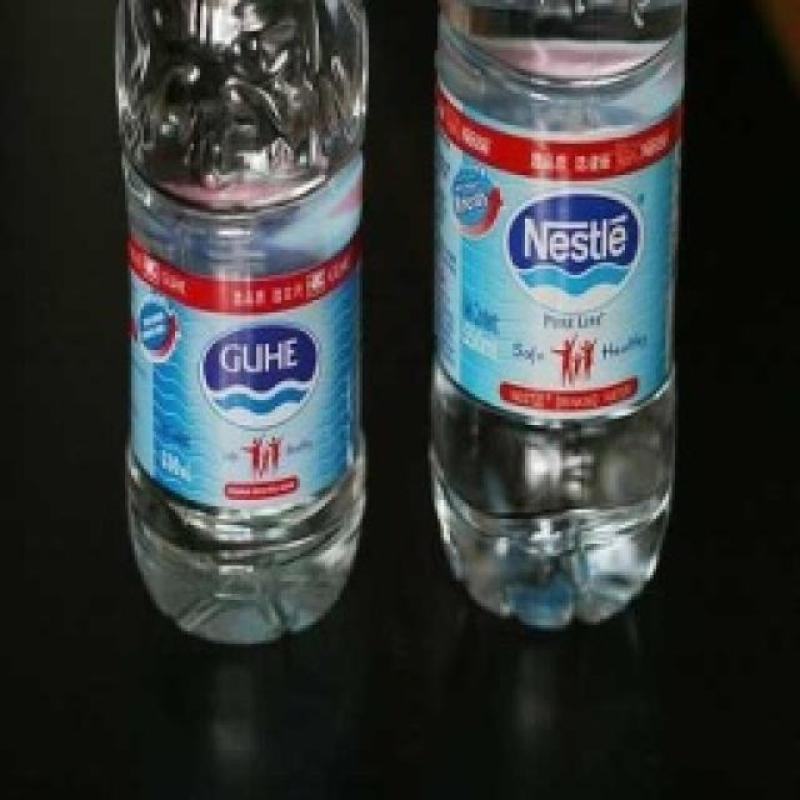botella: (105, 0, 374, 644), (423, 0, 689, 631)
